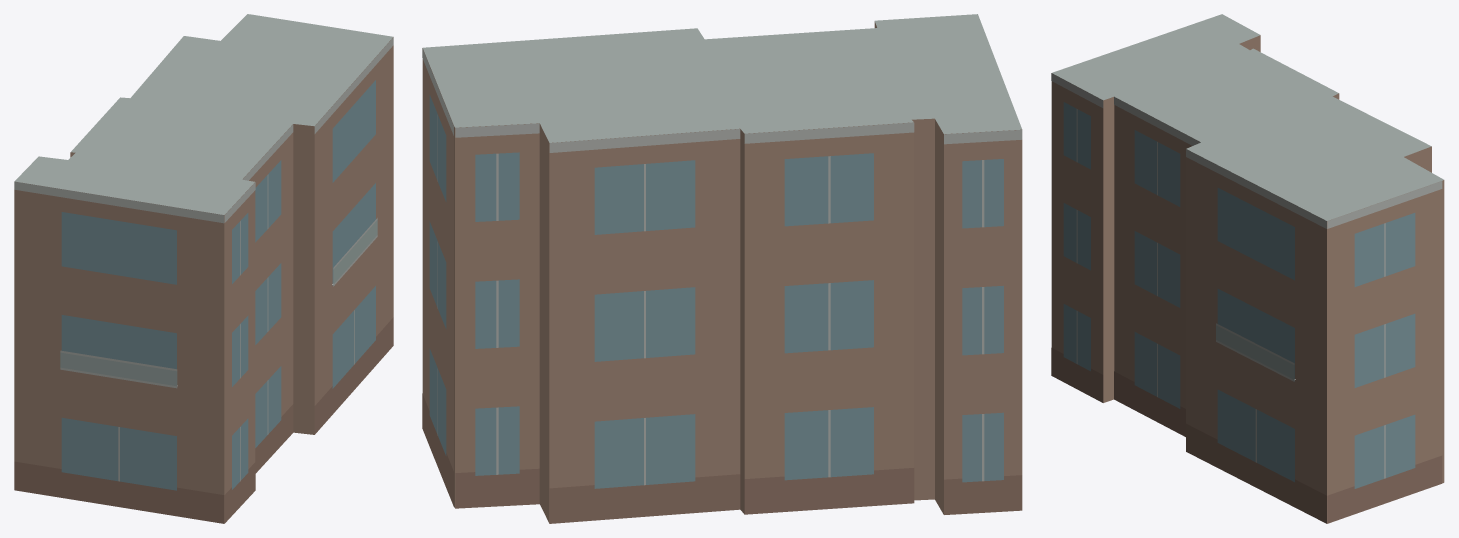
File: survey-upis-32696425.glb
The picture shows the model from 3 angles, left to right: view 1: azimuth 30°, elevation 25°; view 2: azimuth 150°, elevation 25°; view 3: azimuth 270°, elevation 25°; orthographic projection. The views are drawn at different scales.
Visible parts, largest first — view 1: survey-upis-32696425.tmp; view 2: survey-upis-32696425.tmp; view 3: survey-upis-32696425.tmp.
Part boxes in pixels (x1=…): survey-upis-32696425.tmp: x1=14, y1=14, x2=393, y2=523; survey-upis-32696425.tmp: x1=422, y1=14, x2=1022, y2=523; survey-upis-32696425.tmp: x1=1051, y1=14, x2=1444, y2=523.
Bounding box in the file's own units: 13.43 × 9.15 × 10.77.
